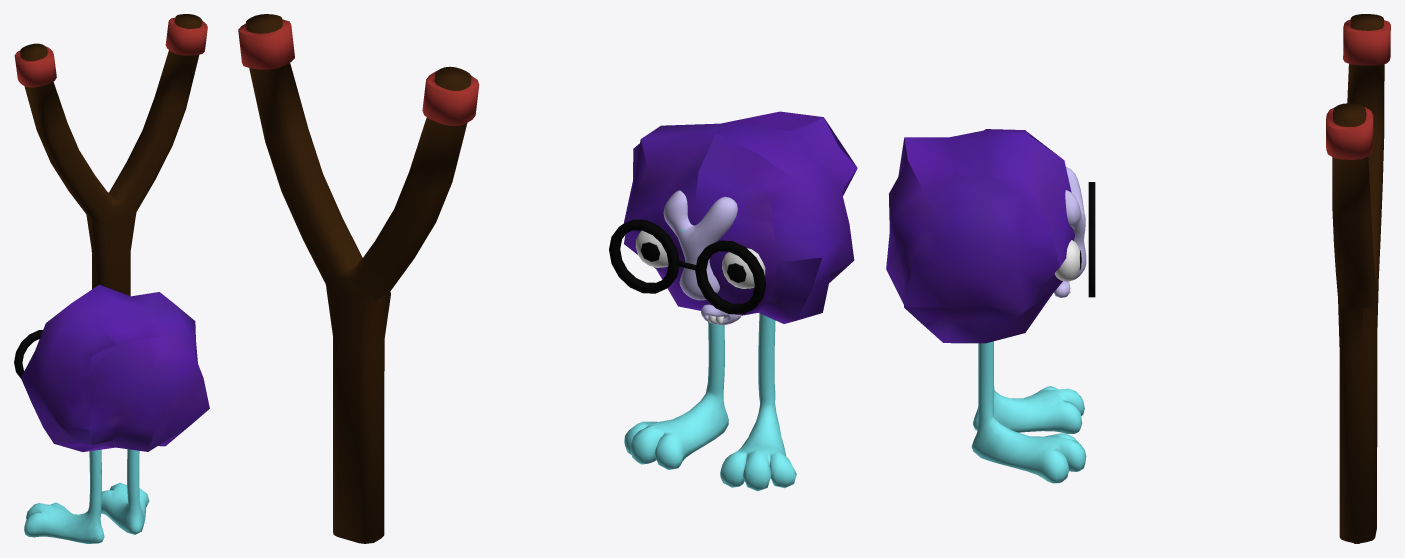
File: intern.glb
3 renders of one model, left to right at view 1: azimuth 30°, elevation 25°; view 2: azimuth 150°, elevation 25°; view 3: azimuth 270°, elevation 25°, orthographic. The views are drawn at different scales.
Parts seen in each view (by area): view 1: oyo.002, Cube; view 2: oyo.002, Cube; view 3: oyo.002, Cube.
Boxes of the visible parts, <box> form: oyo.002: <box>14,284,209,543</box>; Cube: <box>14,14,207,295</box>; oyo.002: <box>609,111,857,491</box>; Cube: <box>238,14,479,543</box>; oyo.002: <box>886,129,1095,483</box>; Cube: <box>1326,14,1390,543</box>.
Bounding box in the file's own units: 4.66 × 5.35 × 5.15.
Materials: 5 (1 with a texture image).
